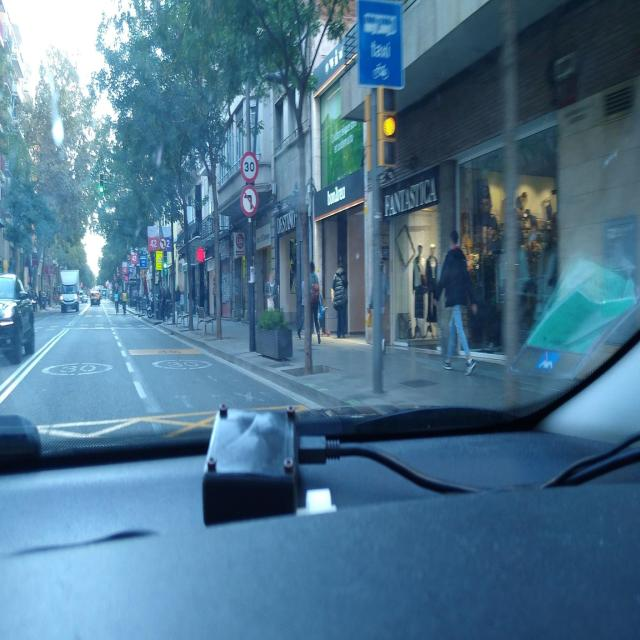bike: (147, 296, 160, 317), (115, 300, 119, 315), (123, 301, 126, 315)
car: (0, 272, 35, 362), (89, 288, 101, 307)
